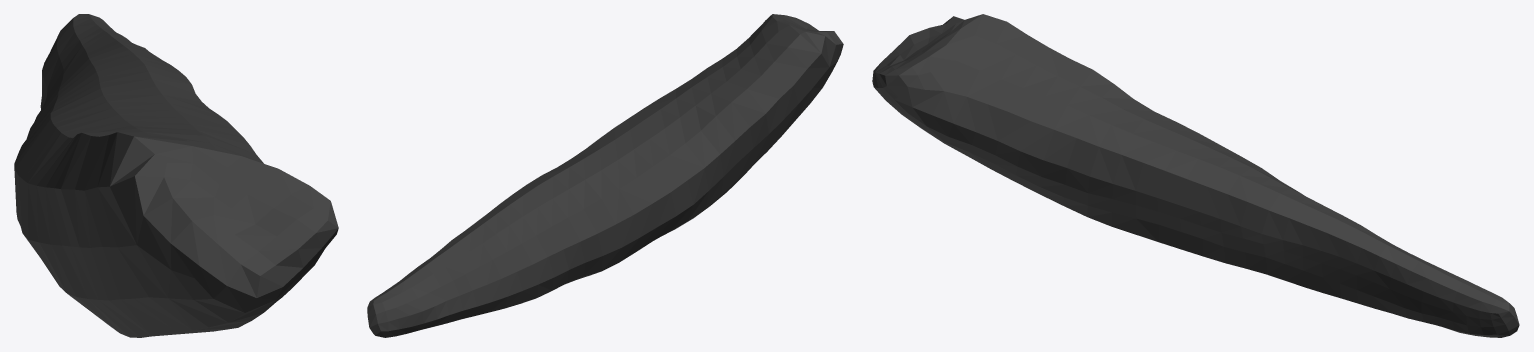
The model's file is L_mand_I3_copy000.glb.
3 renders of one model, left to right at view 1: azimuth 30°, elevation 25°; view 2: azimuth 150°, elevation 25°; view 3: azimuth 270°, elevation 25°, orthographic. The views are drawn at different scales.
Parts seen in each view (by area): view 1: L_mand_I3_copy000; view 2: L_mand_I3_copy000; view 3: L_mand_I3_copy000.
Boxes of the visible parts, x1,y1,x2,y2 form: L_mand_I3_copy000: (14, 14, 338, 337); L_mand_I3_copy000: (367, 14, 843, 337); L_mand_I3_copy000: (872, 14, 1519, 337).
Size of the model in its own units: 0.1331 by 0.1065 by 0.2872.
1 material, 1 textured.
